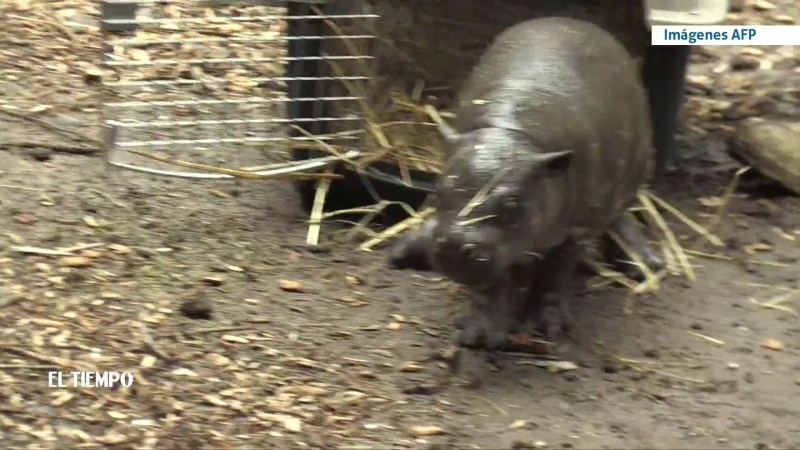hipopotamo: (371, 4, 676, 378)
